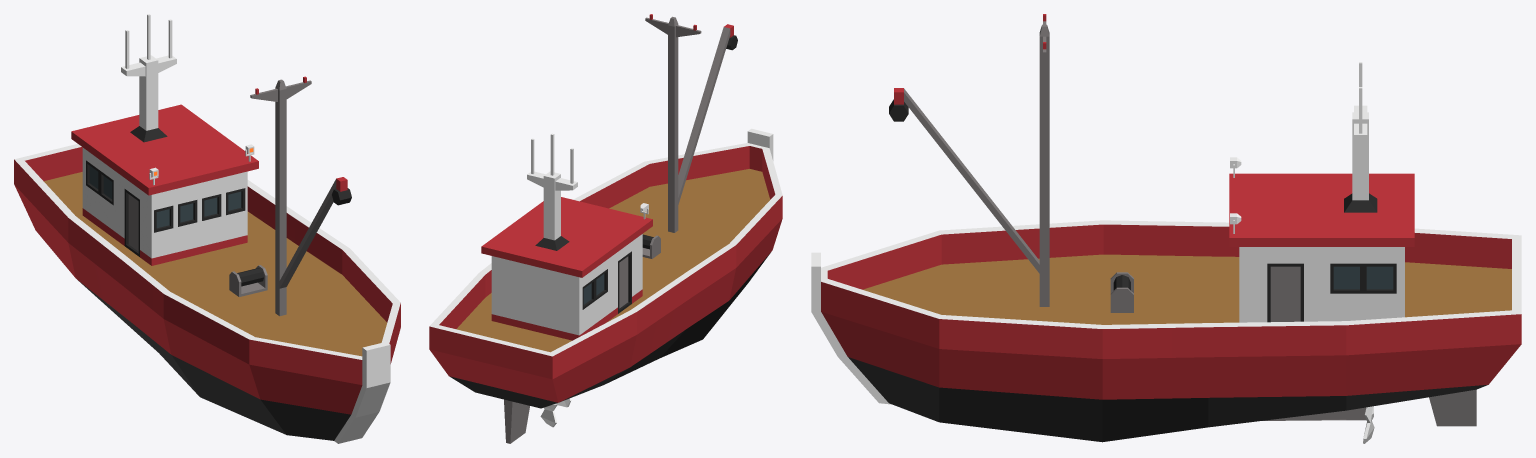
File: vehicles_boat-fishing.fbx
The picture shows the model from 3 angles, left to right: view 1: azimuth 30°, elevation 25°; view 2: azimuth 150°, elevation 25°; view 3: azimuth 270°, elevation 25°; orthographic projection. The views are drawn at different scales.
Parts seen in each view (by area): view 1: vehicles_boat_fishing; view 2: vehicles_boat_fishing; view 3: vehicles_boat_fishing.
Part boxes in pixels (<box>): vehicles_boat_fishing: <box>14,14,400,443</box>; vehicles_boat_fishing: <box>429,14,782,443</box>; vehicles_boat_fishing: <box>811,14,1521,443</box>.
Bounding box in the file's own units: 72.45 × 129 × 200.
